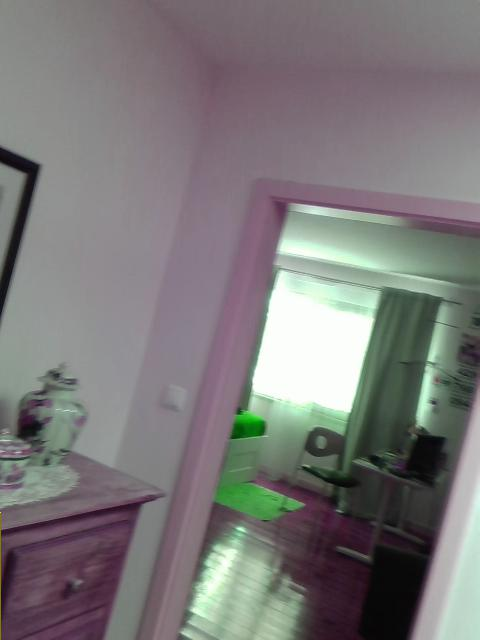open_door: (137, 176, 478, 639)
